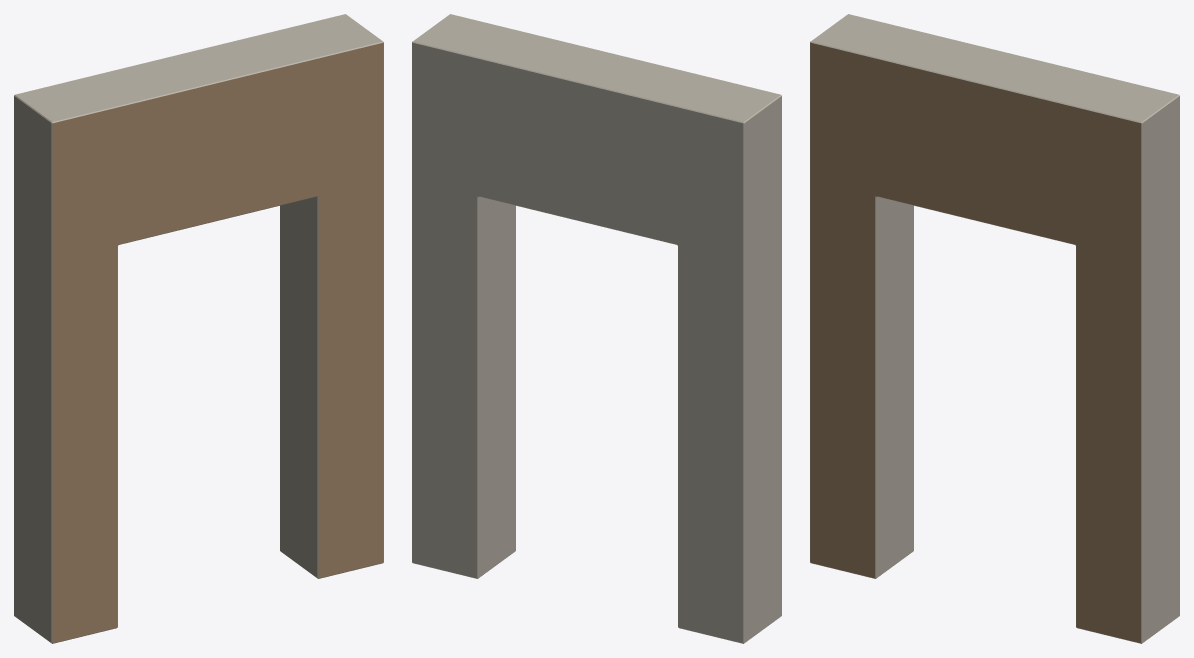
The model's file is arch_wall_ext_door_service_w200_h300.glb.
3 views of the same model, side by side, from view 1: azimuth 30°, elevation 25°; view 2: azimuth 150°, elevation 25°; view 3: azimuth 330°, elevation 25° (orthographic).
Visible parts, largest first — view 1: Wall; view 2: Wall; view 3: Wall.
Part boxes in pixels (bbox=[...]): Wall: bbox=[14, 14, 383, 643]; Wall: bbox=[412, 14, 781, 643]; Wall: bbox=[810, 14, 1179, 643].
Size of what is drawn, in the model's own units: 2 by 3 by 0.4.
